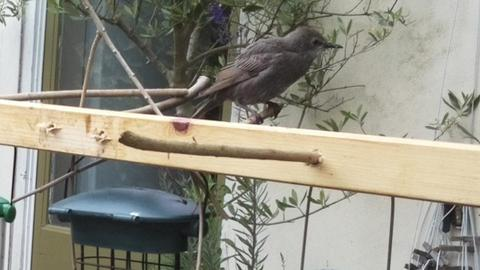starling: (191, 26, 344, 125)
